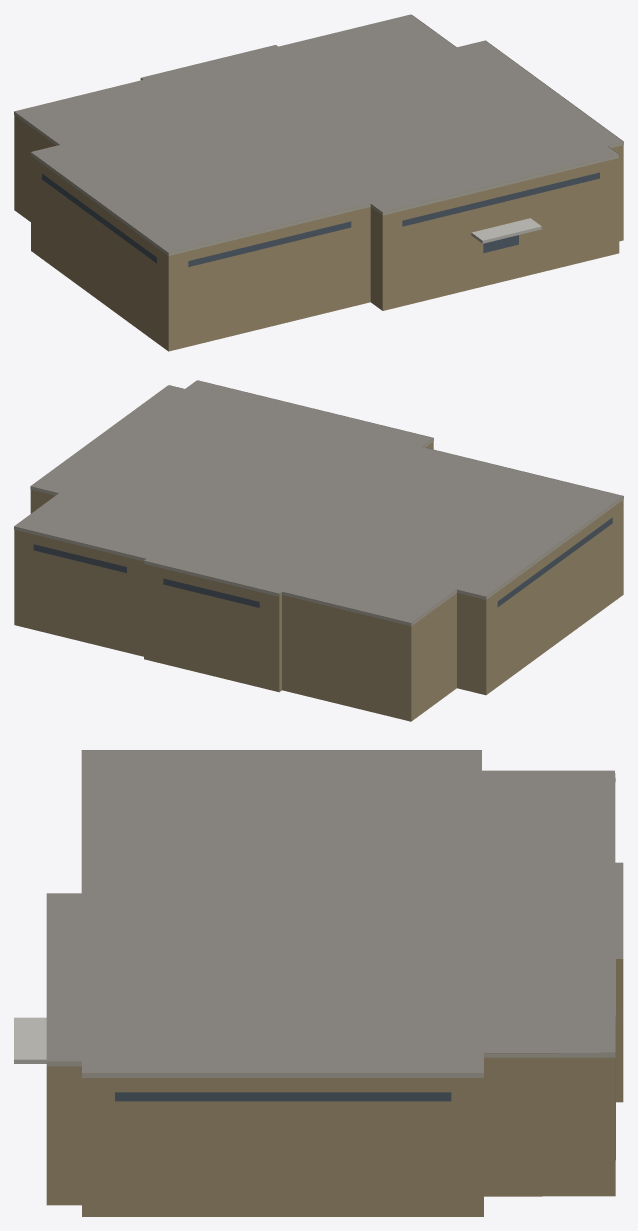
File: professor-bowl-west.glb
3 views of the same model, one above another, from view 1: azimuth 30°, elevation 25°; view 2: azimuth 150°, elevation 25°; view 3: azimuth 270°, elevation 25° (orthographic). The views are drawn at different scales.
Parts seen in each view (by area): view 1: professor_bowl_west; view 2: professor_bowl_west; view 3: professor_bowl_west.
Boxes of the visible parts, left/top/right/bottom form: professor_bowl_west: left=14, top=14, right=623, bottom=351; professor_bowl_west: left=14, top=380, right=623, bottom=721; professor_bowl_west: left=14, top=750, right=623, bottom=1216.
Bounding box in the file's own units: 70.18 × 14.52 × 55.91.
